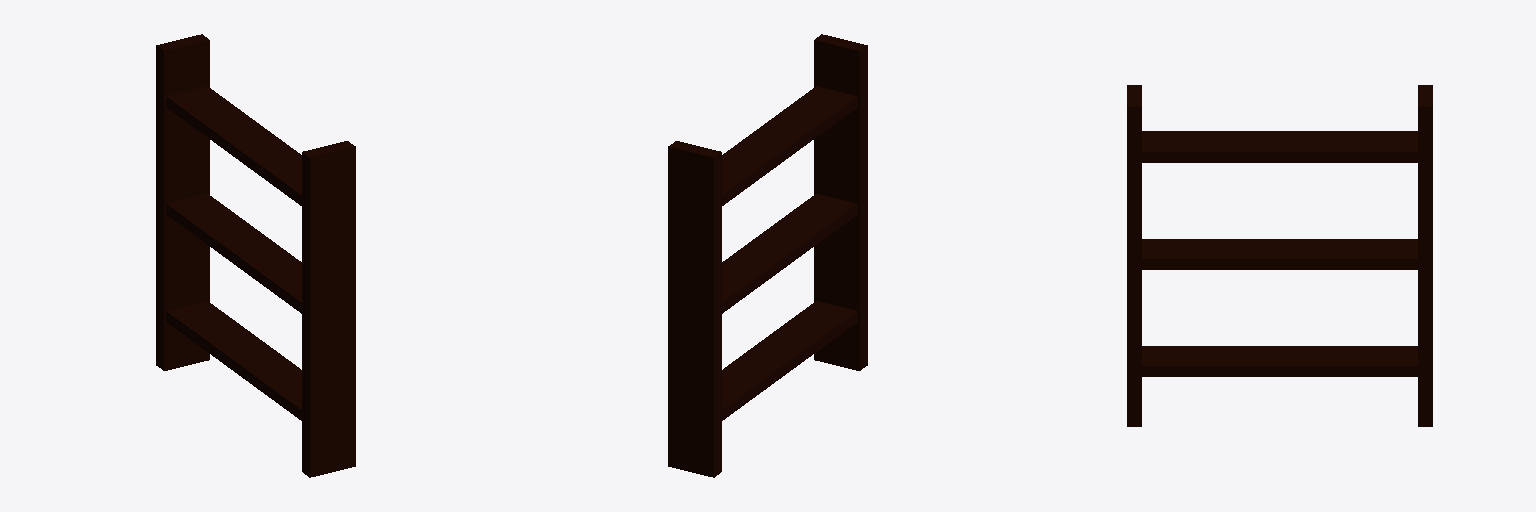
The model's file is Shelf_01.obj.
3 renders of one model, left to right at view 1: azimuth 30°, elevation 25°; view 2: azimuth 150°, elevation 25°; view 3: azimuth 270°, elevation 25°, orthographic.
Parts seen in each view (by area): view 1: Shelf_01_Cube; view 2: Shelf_01_Cube; view 3: Shelf_01_Cube.
Boxes of the visible parts, x1,y1,x2,y2 form: Shelf_01_Cube: [156, 34, 355, 477]; Shelf_01_Cube: [668, 34, 867, 477]; Shelf_01_Cube: [1127, 85, 1432, 426].
Size of the model in its own units: 0.6182 by 4.16 by 3.61.